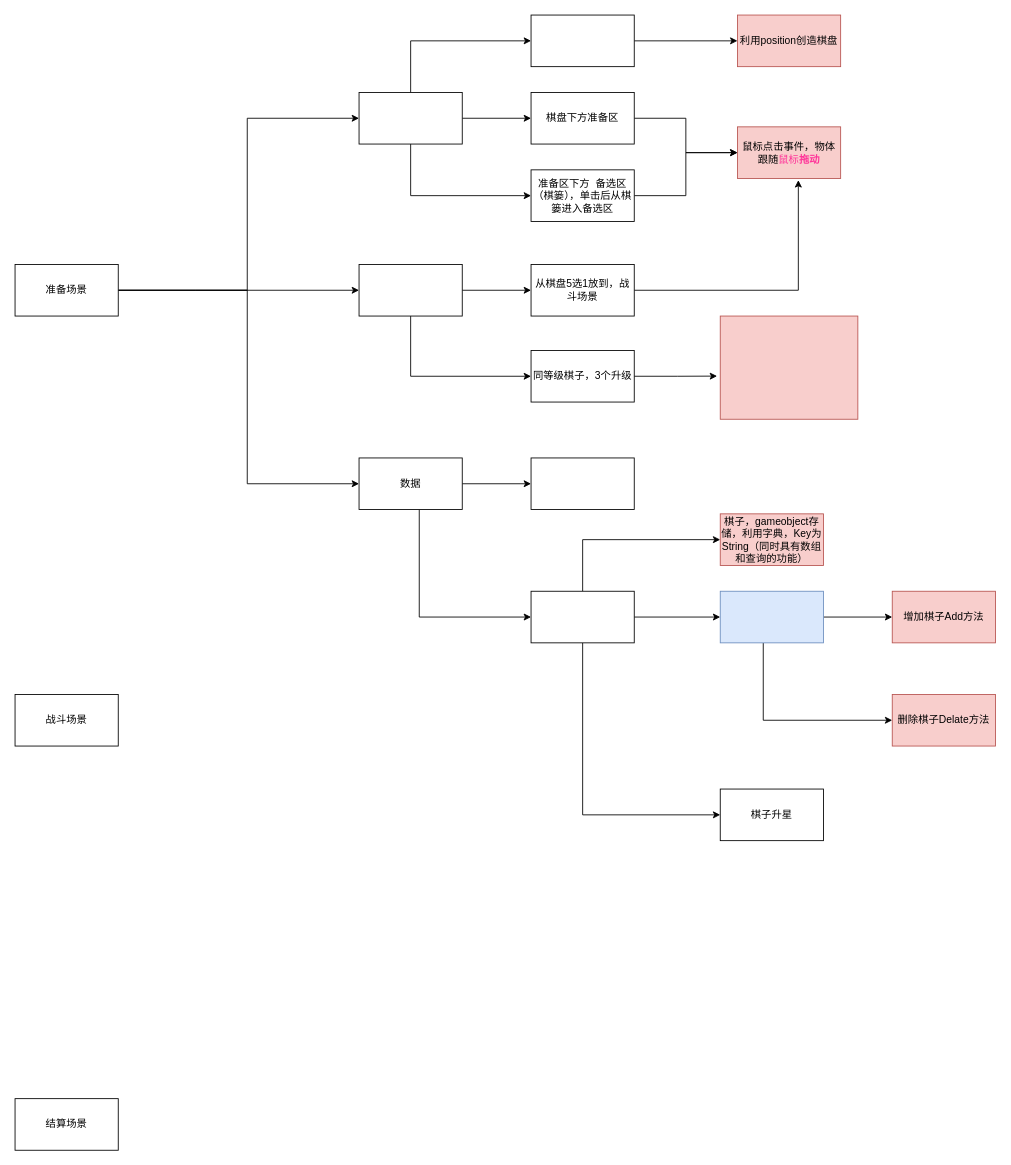
This 1011x1165 diagram has some shape labels left out. Here are the shapes that lost their labels. From the top down, the box of each, then its label:
(530, 14, 634, 67): 棋盘：可以放人物
(358, 92, 462, 144): 地图
(358, 264, 462, 316): 功能
(719, 315, 858, 419): 建立一个 计数器 ，当备选区以及战斗区棋子实例化时，+1，当==3时，升星（删除3个低级棋子，从第一个棋子处实例化高级棋子）
(530, 457, 634, 510): 棋盘基类，对棋盘进行所有操作（检测棋盘上的位置是否为空）
(530, 590, 634, 643): 棋子基类，管理所有棋子，对其子增删改，升星统一管理
(719, 590, 823, 643): 对棋子行为进行操作的operation类，
